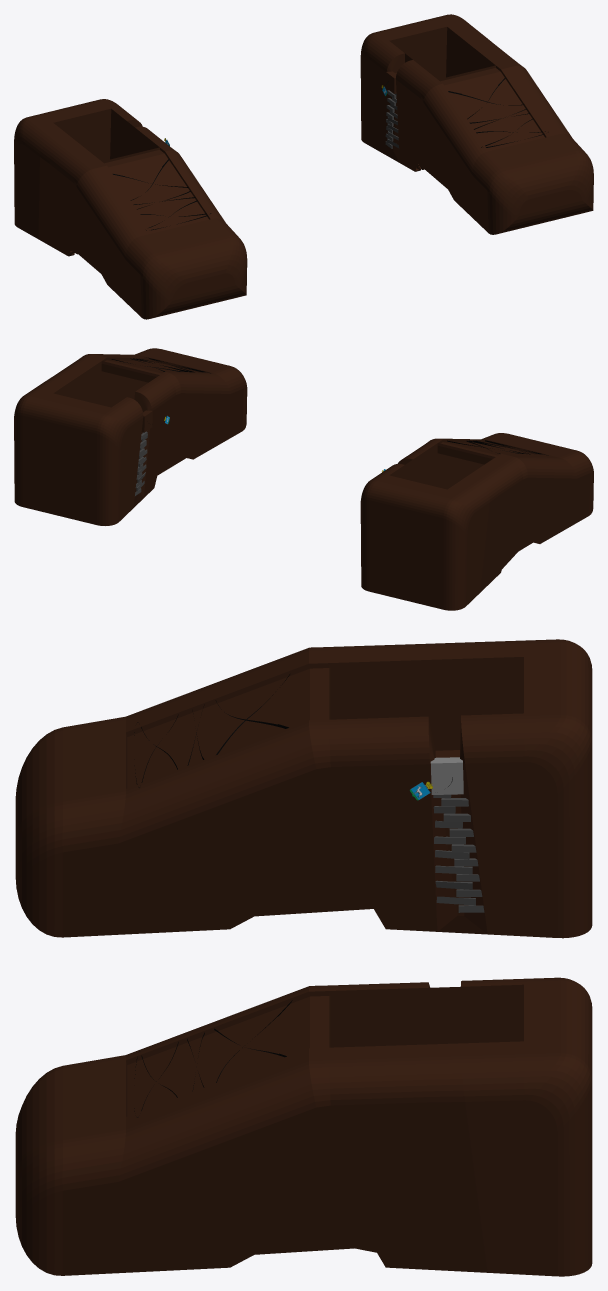
The model's file is shoes.fbx.
3 views of the same model, one above another, from view 1: azimuth 30°, elevation 25°; view 2: azimuth 150°, elevation 25°; view 3: azimuth 270°, elevation 25° (orthographic). The views are drawn at different scales.
Visible parts, largest first — view 1: правый, Левый, Левый.001, правый.001; view 2: правый, Левый, Левый.001, правый.001; view 3: Левый, правый, правый.001, Левый.001.
Part boxes in pixels (x1=…): правый: x1=360, y1=14, x2=593, y2=234; Левый: x1=14, y1=99, x2=247, y2=319; Левый.001: x1=14, y1=99, x2=247, y2=319; правый.001: x1=361, y1=15, x2=593, y2=233; правый: x1=14, y1=348, x2=247, y2=525; Левый: x1=360, y1=433, x2=593, y2=610; Левый.001: x1=360, y1=434, x2=593, y2=610; правый.001: x1=14, y1=348, x2=246, y2=524; Левый: x1=15, y1=639, x2=592, y2=938; правый: x1=15, y1=977, x2=592, y2=1276; правый.001: x1=15, y1=978, x2=592, y2=1276; Левый.001: x1=15, y1=640, x2=592, y2=937.
Bounding box in the file's own units: 85.51 × 19.02 × 47.31.
6 materials, 1 textured.
